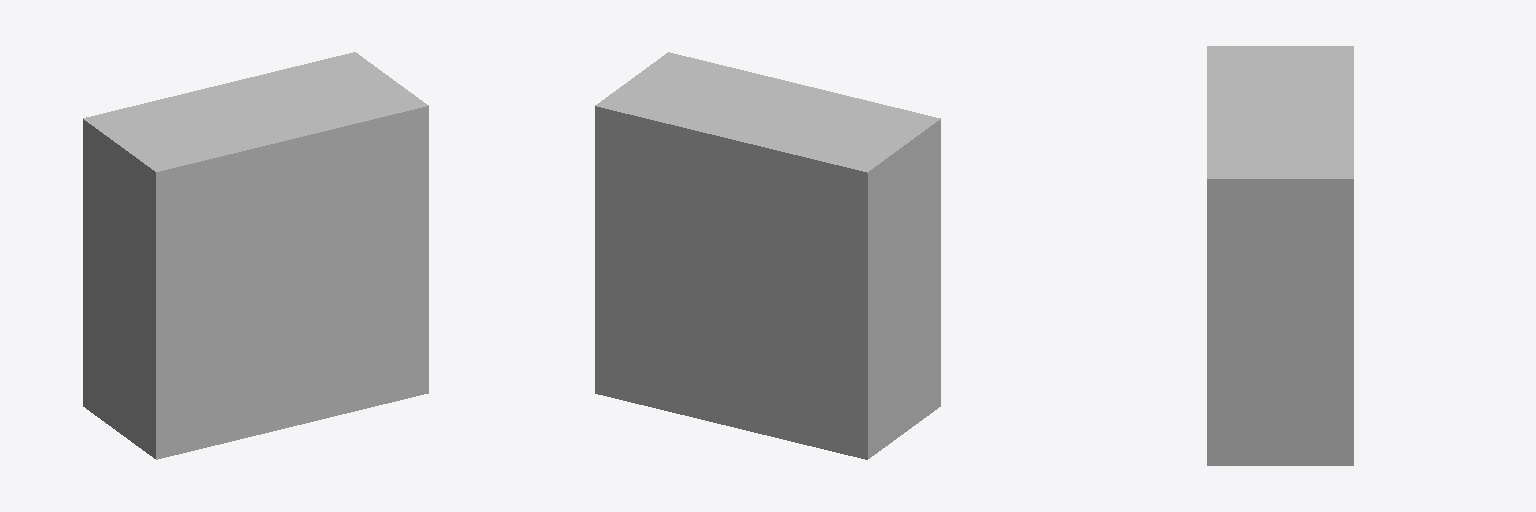
The model's file is Computer.obj.
3 views of the same model, side by side, from view 1: azimuth 30°, elevation 25°; view 2: azimuth 150°, elevation 25°; view 3: azimuth 270°, elevation 25° (orthographic).
Parts seen in each view (by area): view 1: Plane.003_Plane.015, Cube_Cube.001; view 2: Cube_Cube.001; view 3: Cube_Cube.001.
Part boxes in pixels (bbox=[...]): Plane.003_Plane.015: bbox=[157, 127, 406, 449]; Cube_Cube.001: bbox=[83, 52, 428, 459]; Cube_Cube.001: bbox=[595, 52, 940, 459]; Cube_Cube.001: bbox=[1207, 46, 1353, 465].
Bounding box in the file's own units: 2.67 × 2.69 × 1.25.